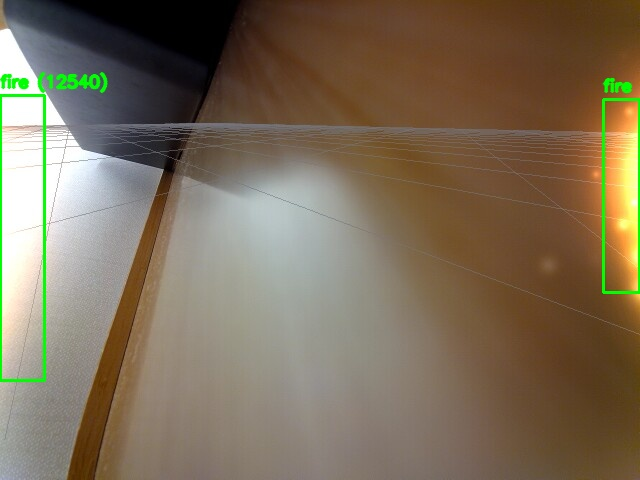fire: (0, 95, 44, 380), (603, 99, 639, 292)
